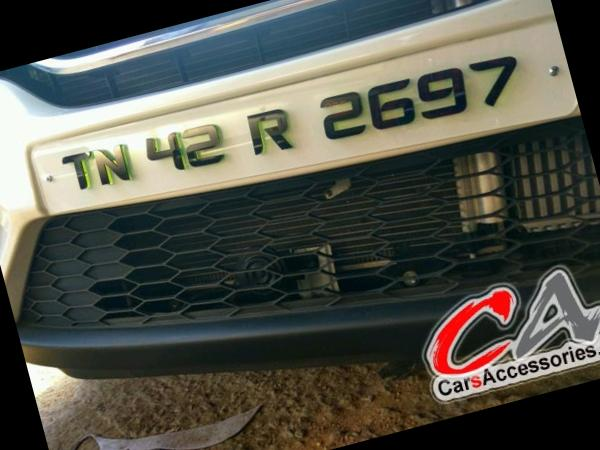plate: (17, 2, 579, 253)
